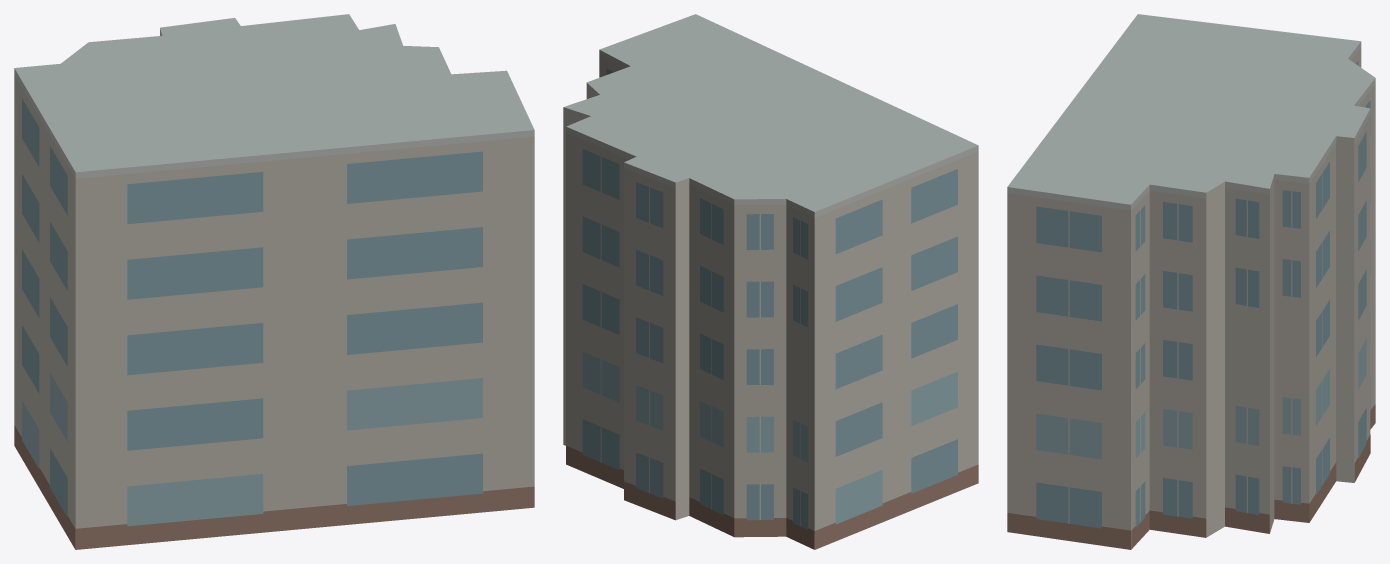
Rendered from survey-upis-32883190.glb.
3 renders of one model, left to right at view 1: azimuth 30°, elevation 25°; view 2: azimuth 150°, elevation 25°; view 3: azimuth 270°, elevation 25°, orthographic. The views are drawn at different scales.
Visible parts, largest first — view 1: survey-upis-32883190.tmp; view 2: survey-upis-32883190.tmp; view 3: survey-upis-32883190.tmp.
Part boxes in pixels (x1=…): survey-upis-32883190.tmp: x1=14, y1=14, x2=534, y2=549; survey-upis-32883190.tmp: x1=563, y1=14, x2=978, y2=549; survey-upis-32883190.tmp: x1=1007, y1=14, x2=1375, y2=549.
Bounding box in the file's own units: 16.97 × 14.3 × 13.84.
